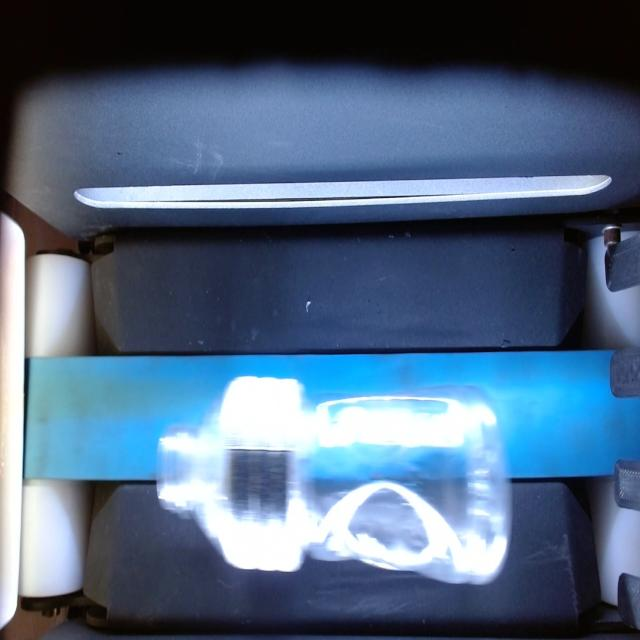bottom: (318, 383, 514, 585)
label: (221, 380, 314, 581)
neck: (149, 401, 228, 547)
